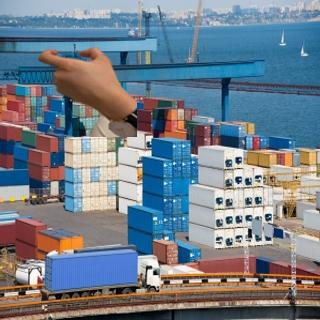HATE: (32, 45, 122, 111)
